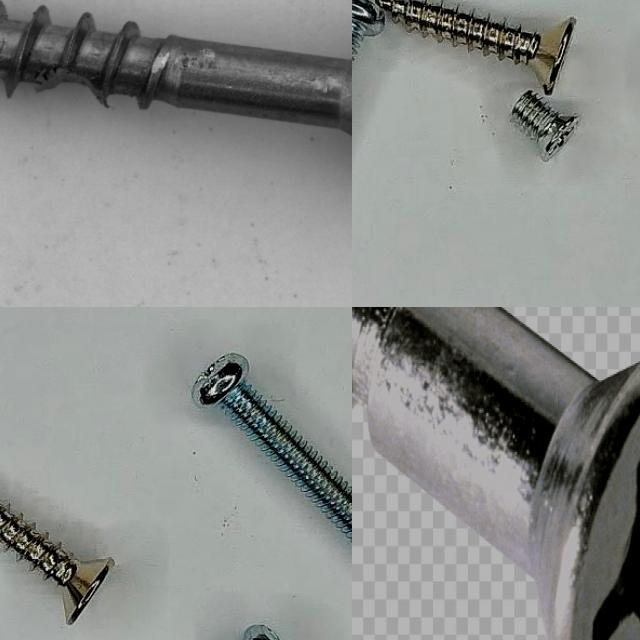Screw: (352, 307, 640, 640), (0, 0, 352, 206), (193, 354, 352, 539), (376, 0, 576, 94), (0, 502, 114, 626), (511, 90, 579, 161)
